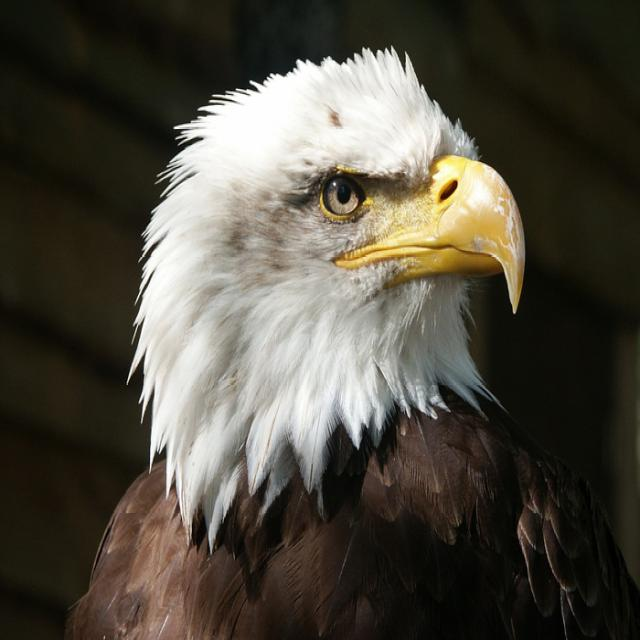Carnivorous: (63, 46, 640, 640)
